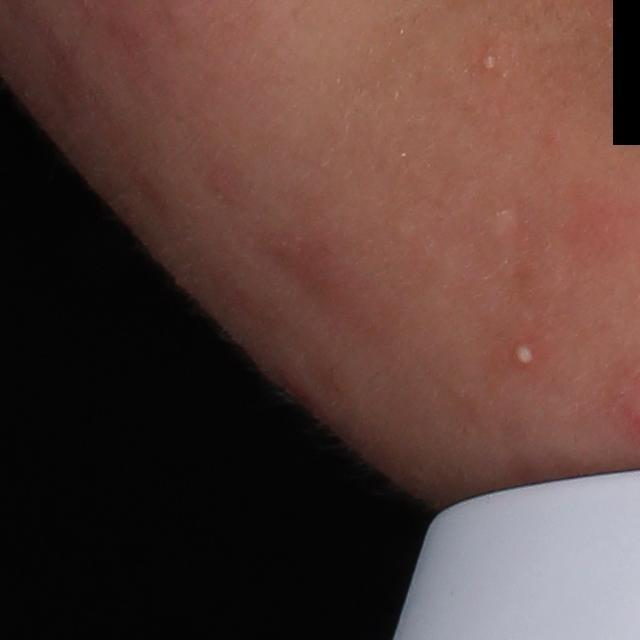pustule: (507, 332, 545, 375)
